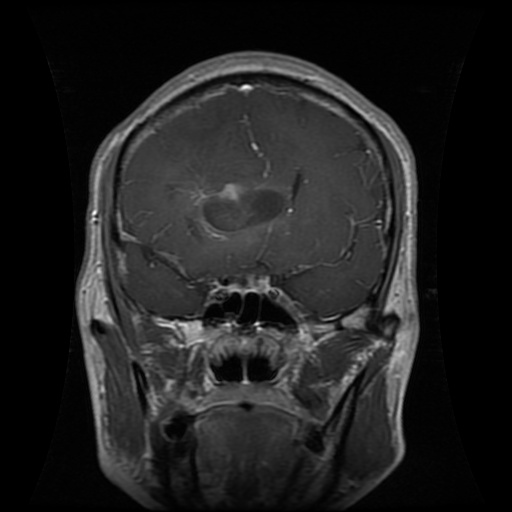glioma: (177, 166, 307, 244)
